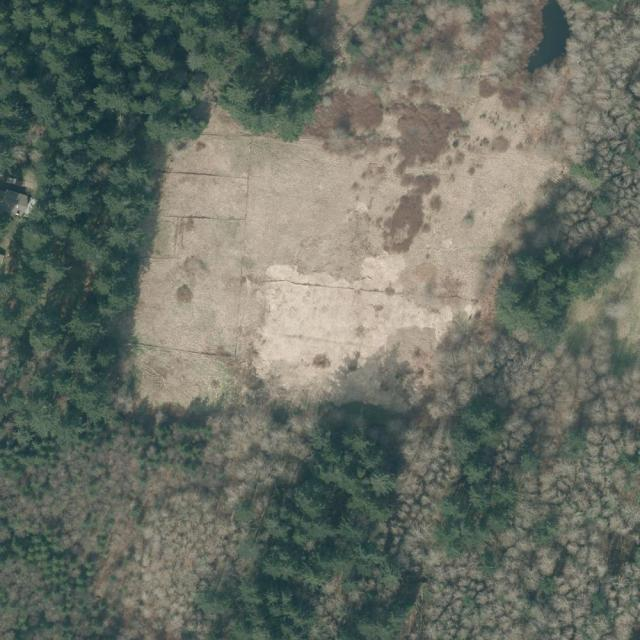dryland: (129, 0, 574, 403), (0, 402, 291, 639), (323, 310, 521, 460), (385, 406, 465, 568)
greenland: (475, 192, 634, 358), (434, 390, 529, 562)
